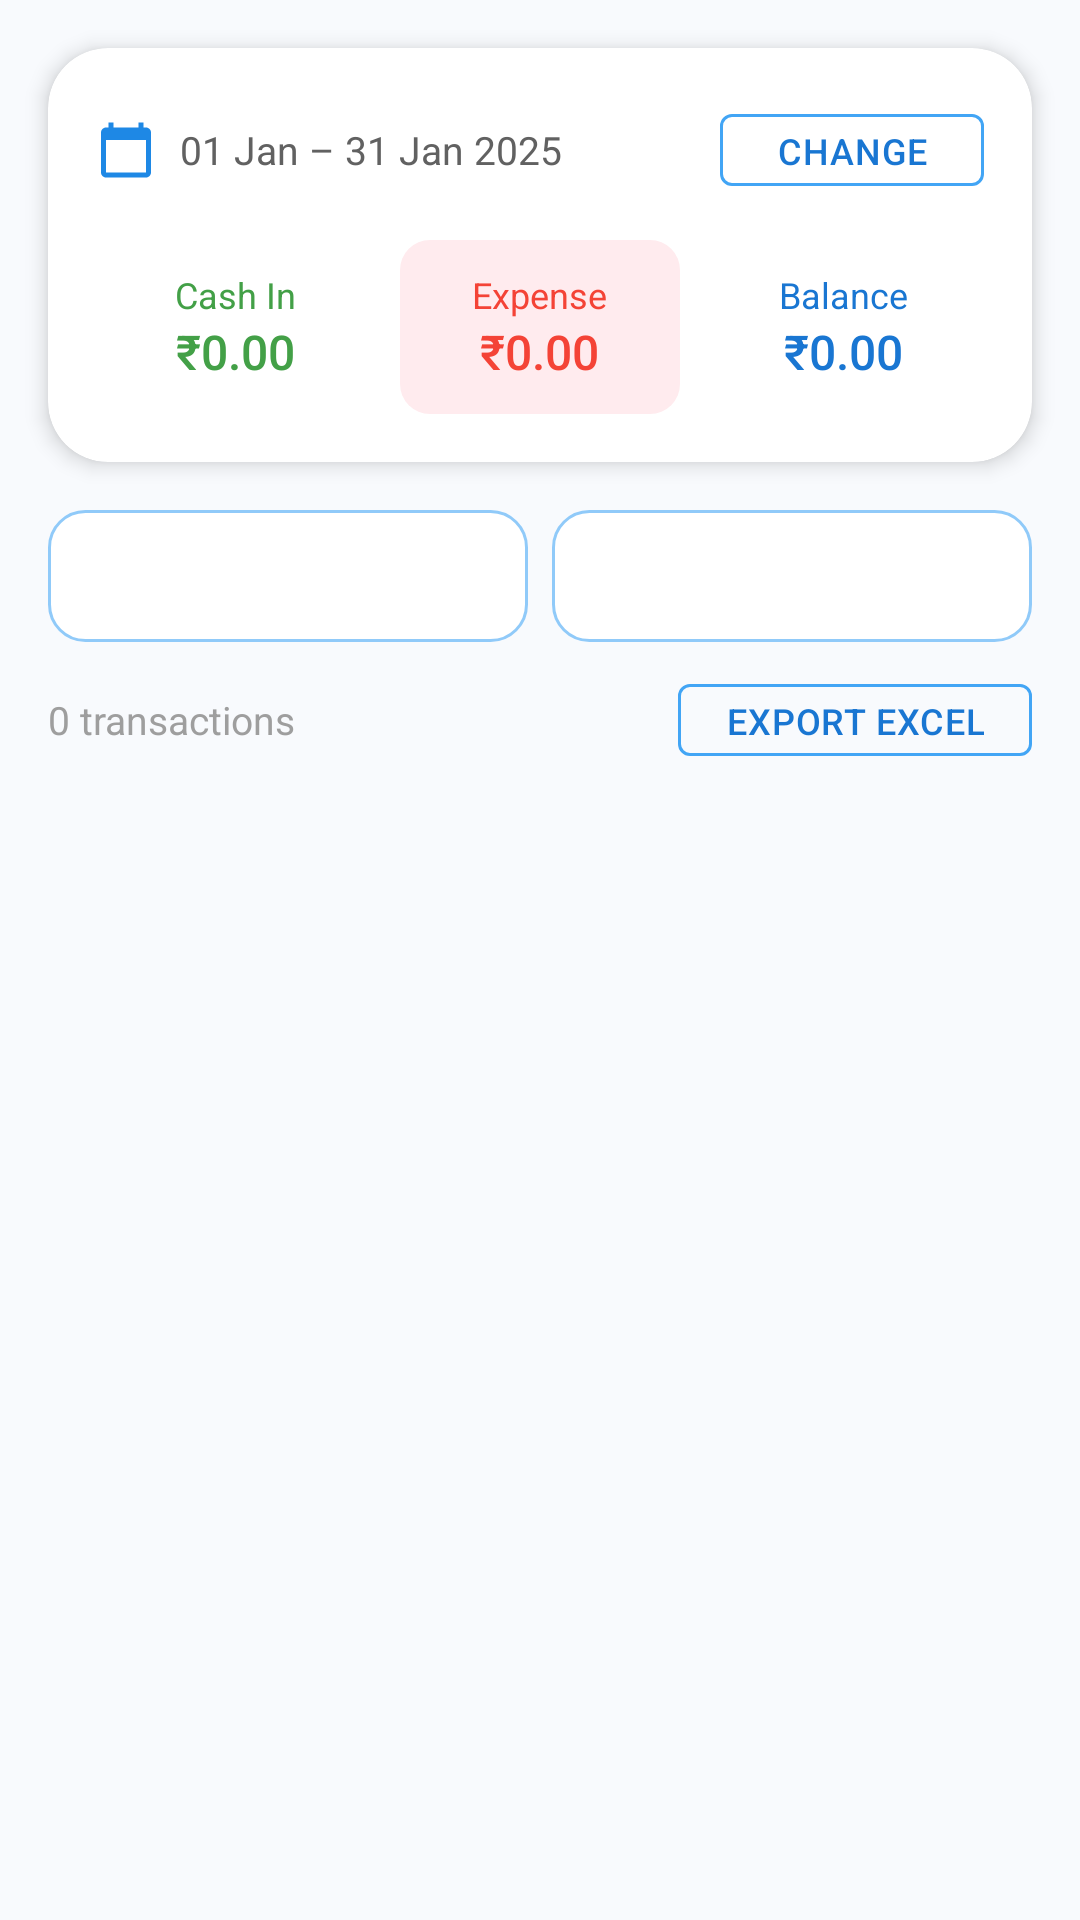

Point at icon controls on the screen. Image size 1080 x 1920, points as [x,y].
calendar: [126,150]
